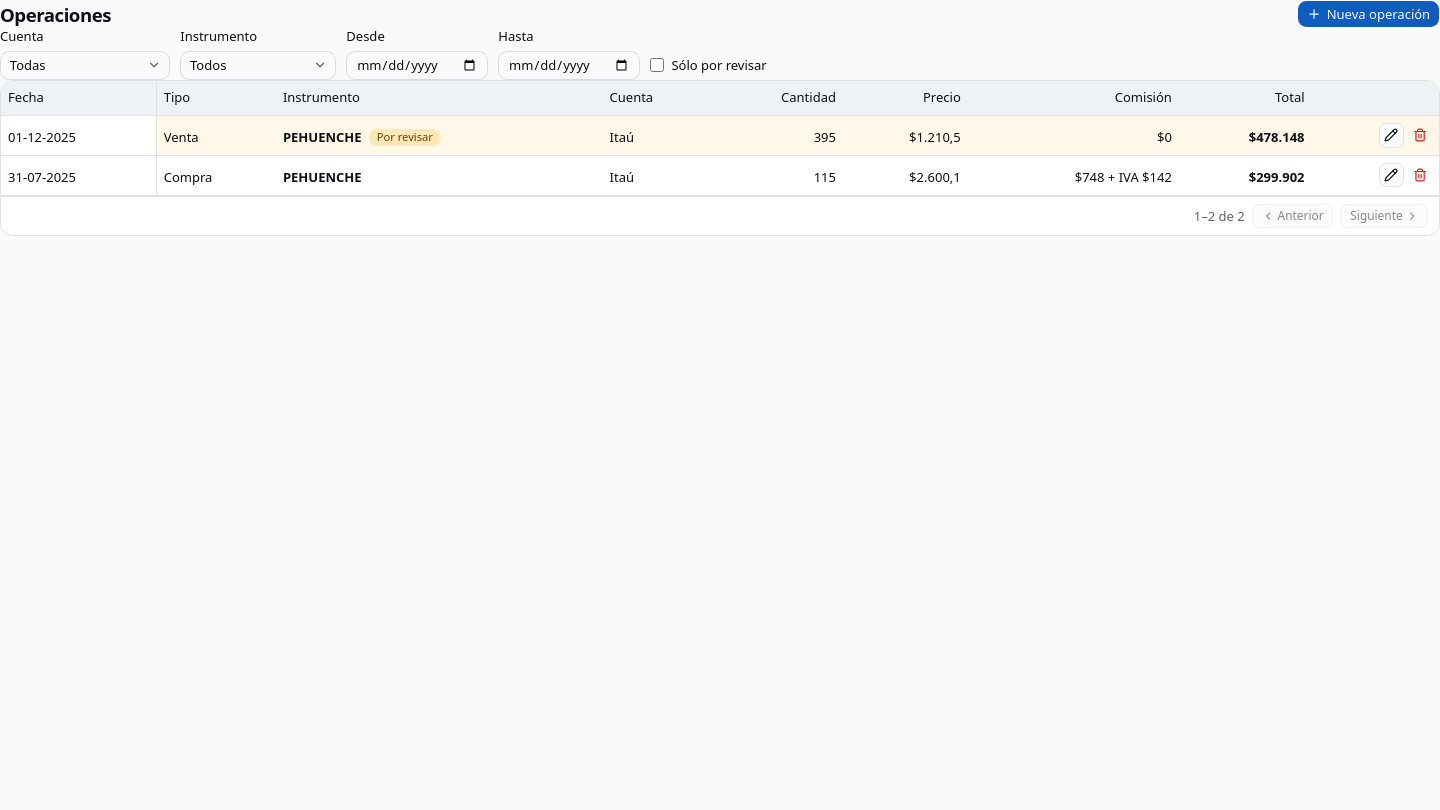
Test: TradesScreen › registra una compra y refresca la lista
Expected: the element named "Operaciones" is shown, [1,80,1439,196]
Click the button "Nueva operación": (1369, 14) [1297,0,1439,28]
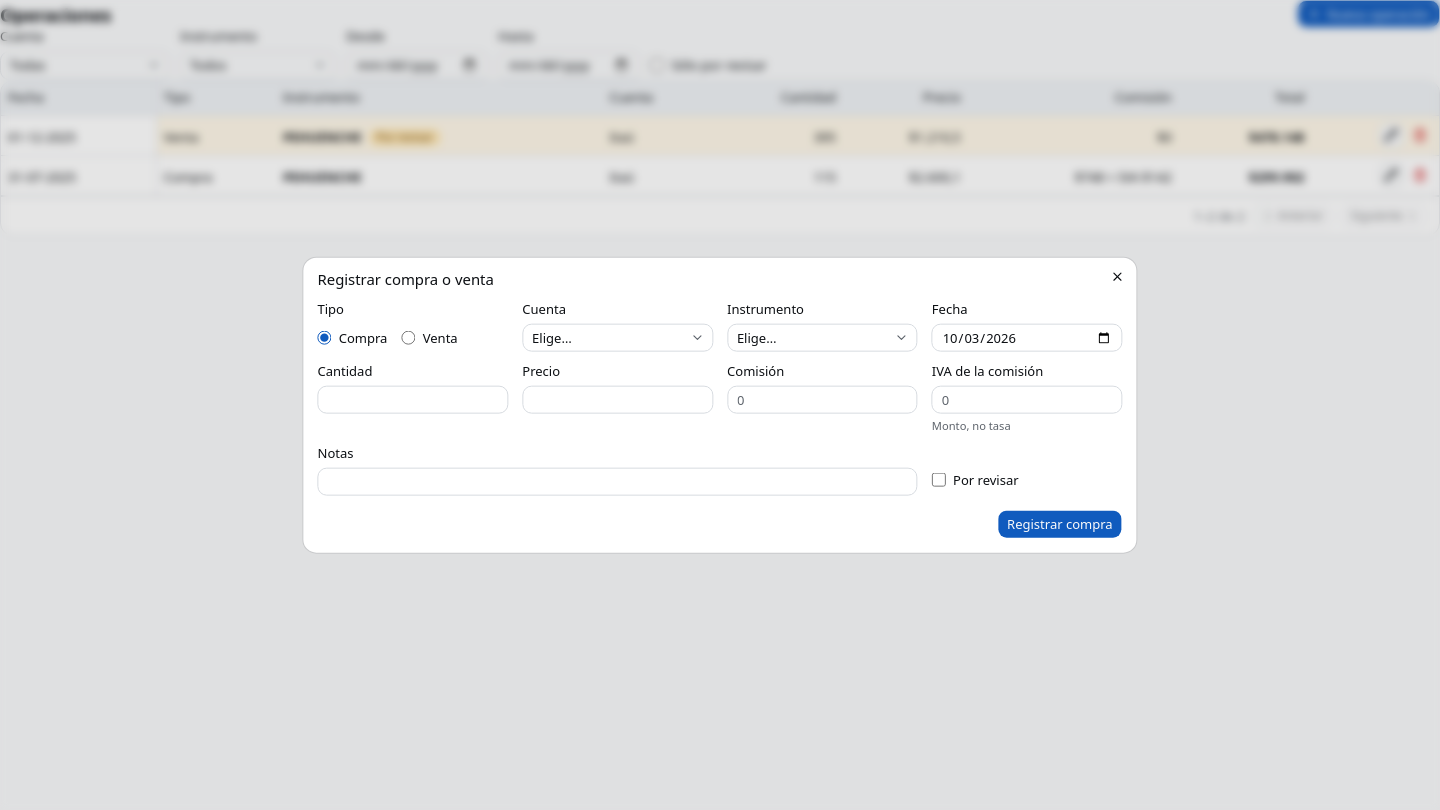
Select "Interactive Brokers" in the dropdown labelled "Cuenta": (618, 338) [522,324,713,352]
Select "KO · US" in the dropdown labelled "Instrumento": (822, 338) [727,324,918,352]
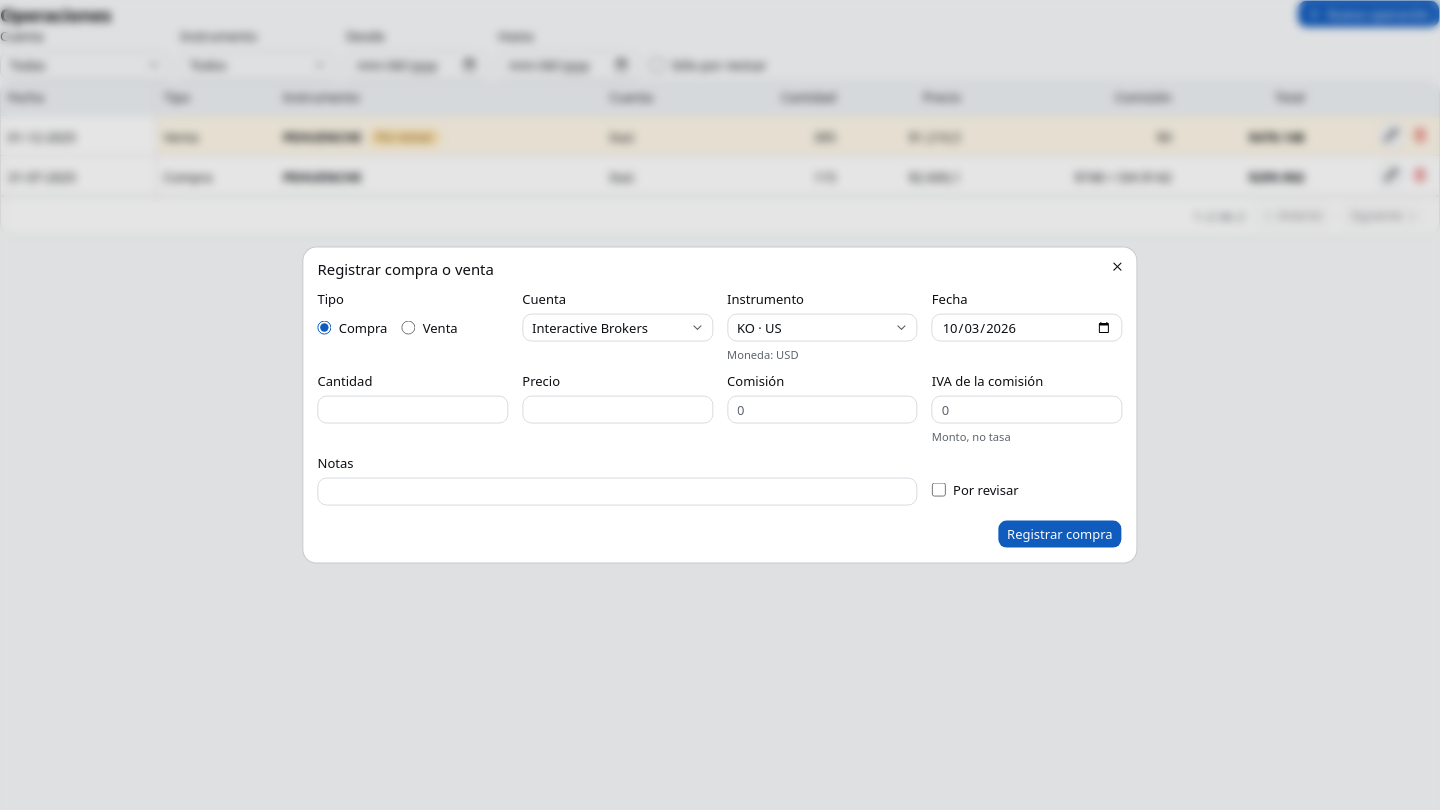
In the date field labelled "Fecha": (1027, 328) [932,314,1122,342], type "2026-10-01"
In the field labelled "Cantidad": (413, 410) [318,396,508,424], type "2,5"
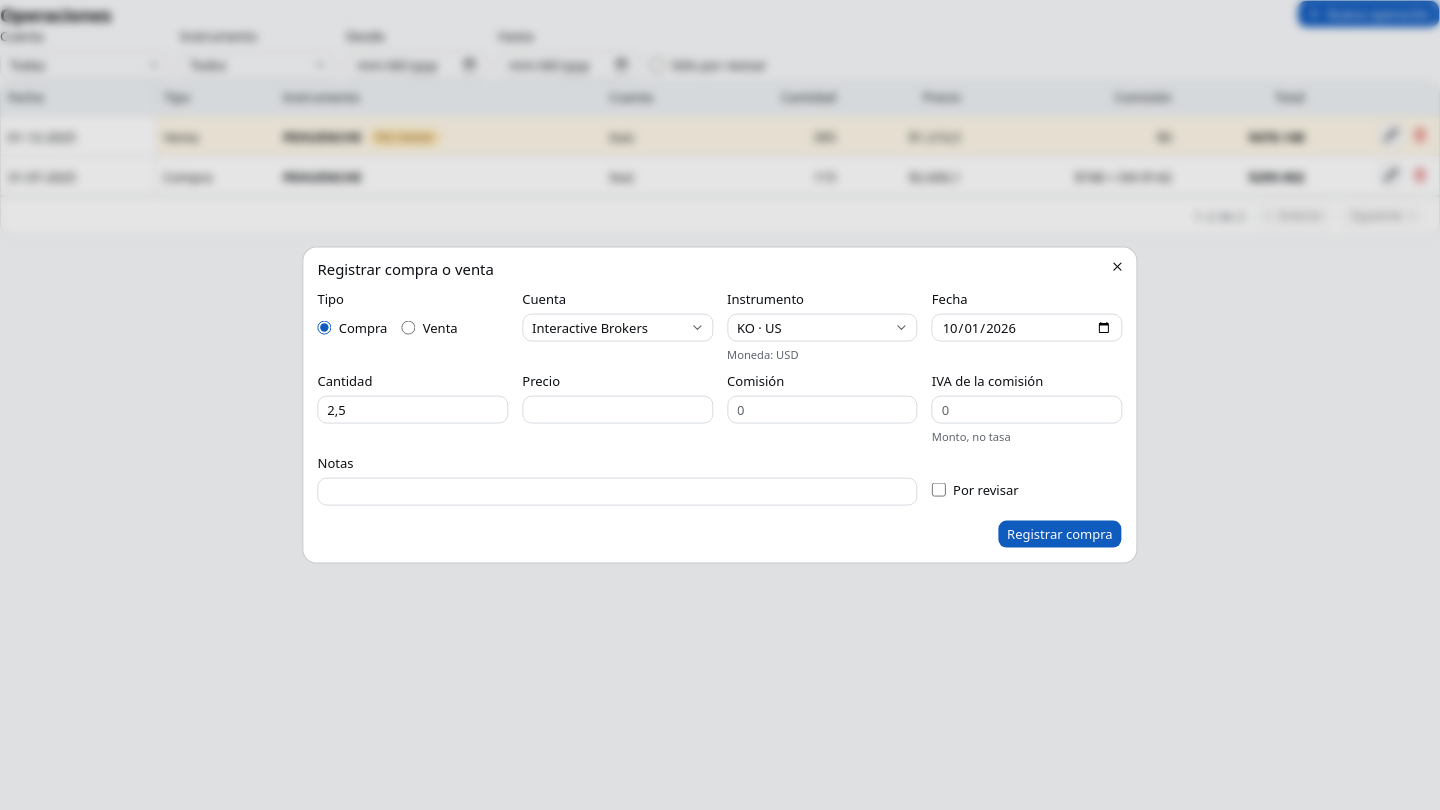
In the field labelled "Precio": (618, 410) [522,396,713,424], type "61.2"
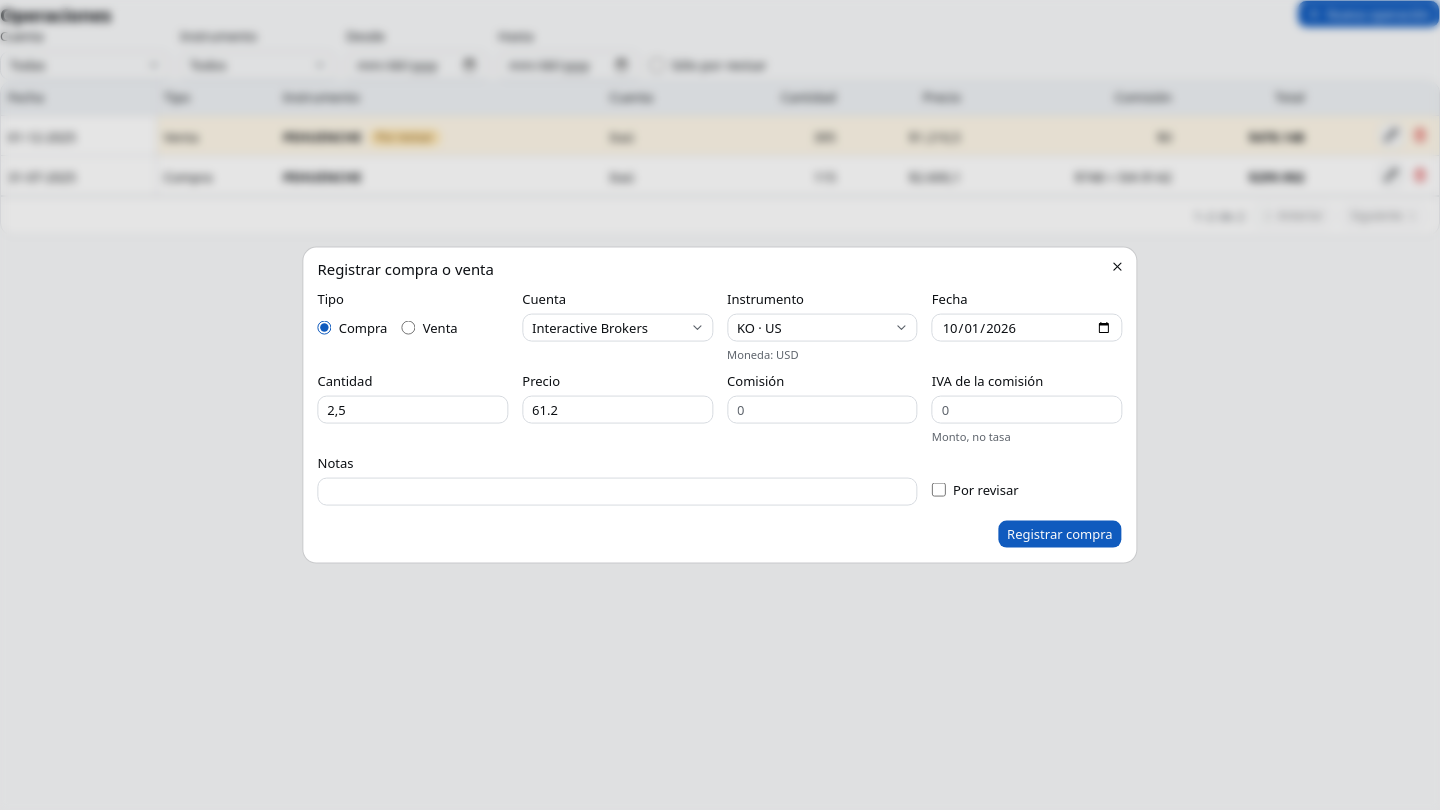
In the field labelled "Comisión": (822, 410) [727,396,918,424], type "1"
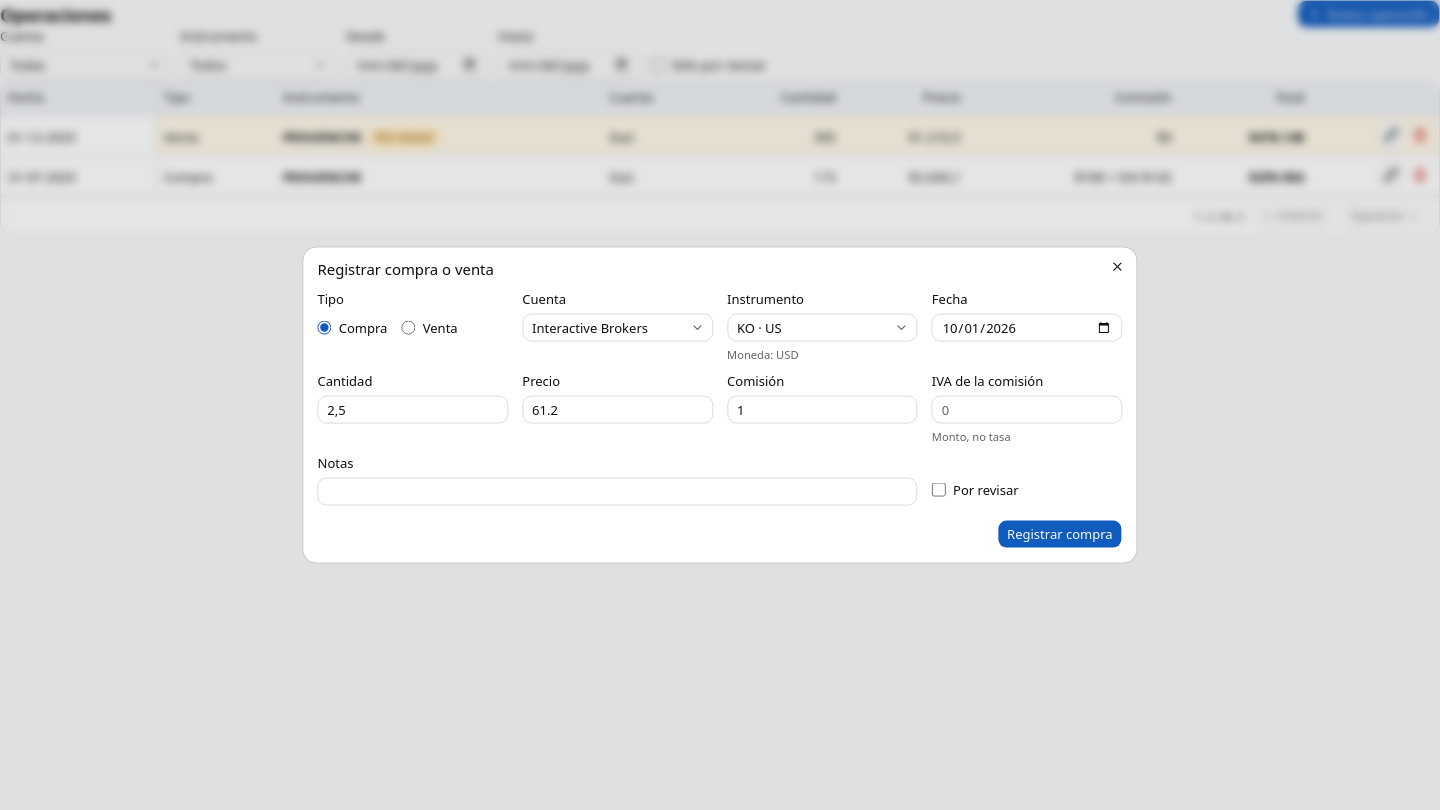
Expected: the field labelled "IVA de la comisión" is shown, [932,396,1122,424]
Click the button "Registrar compra": (1060, 534) [997,520,1122,548]
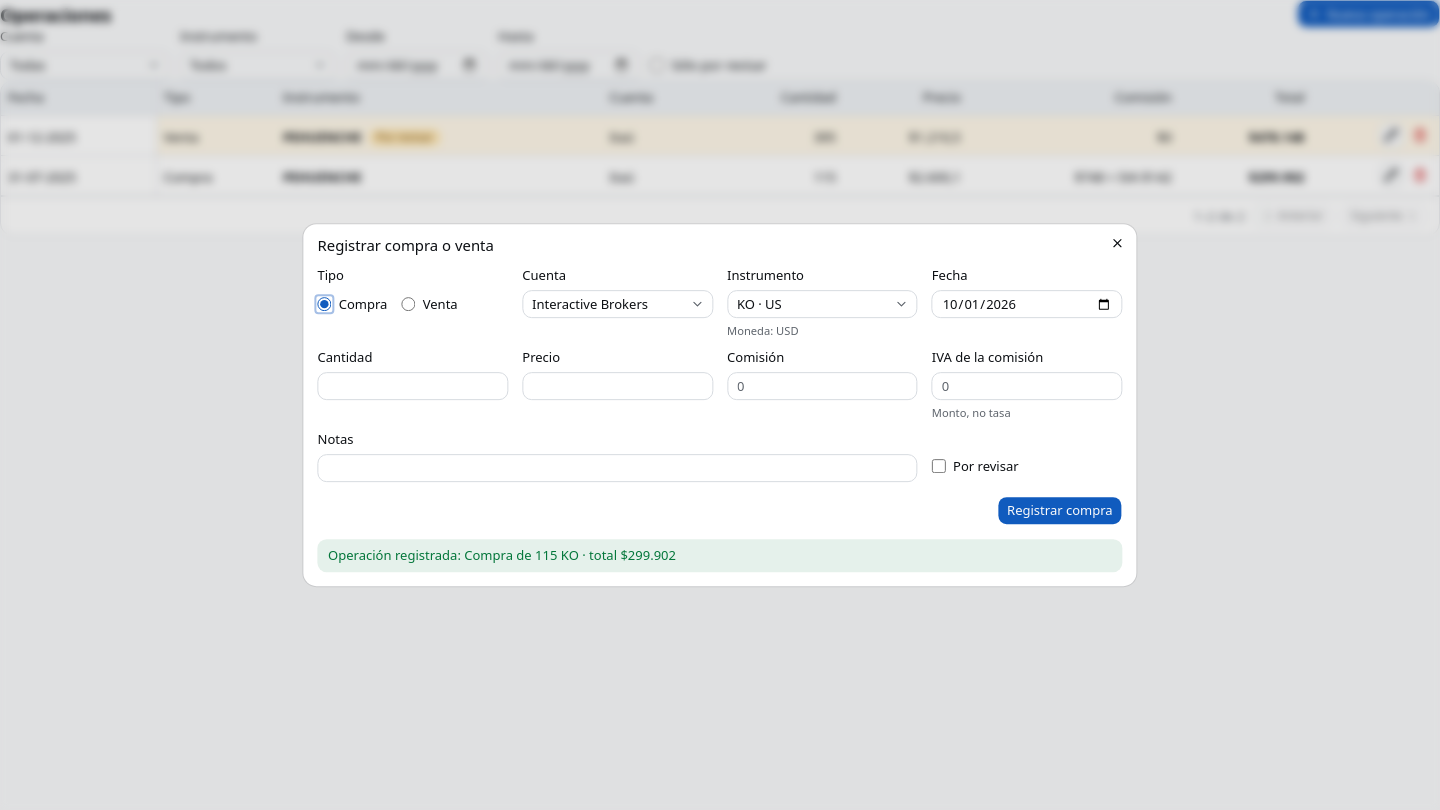
Expected: the message shows "Operación registrada", [328,546,464,564]
